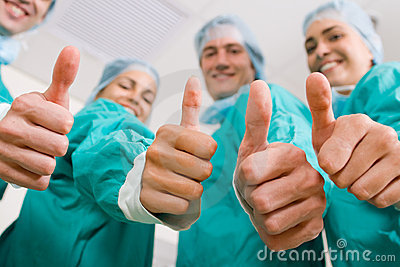thumbsup: (232, 77, 329, 253), (305, 70, 400, 213), (1, 43, 82, 192), (138, 76, 218, 218)
